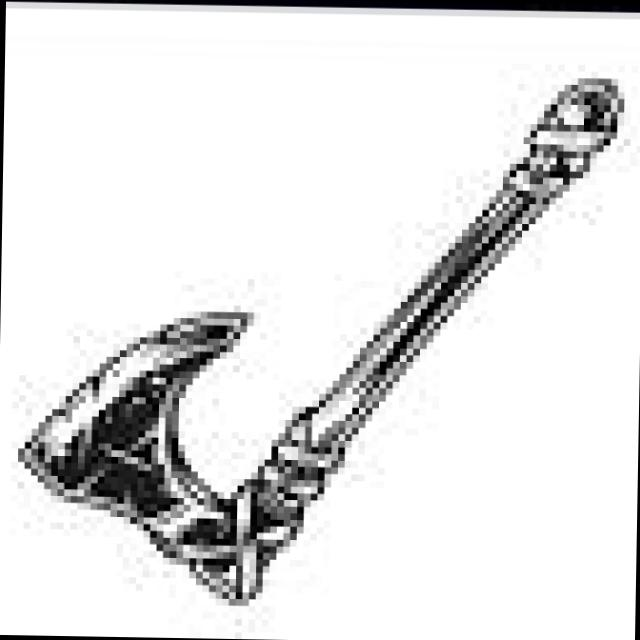Gun: (16, 60, 620, 622)
